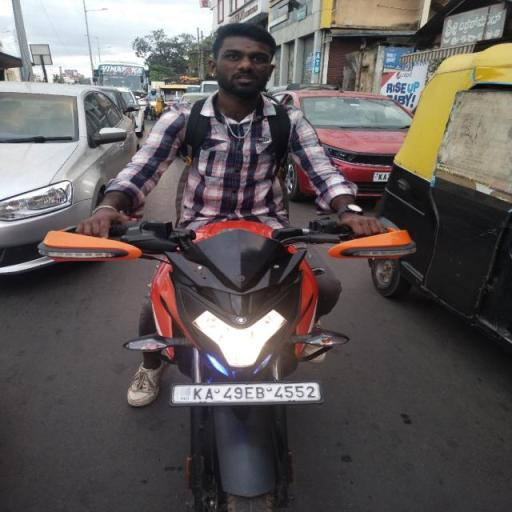bike: (37, 16, 415, 512)
numberplate: (174, 383, 324, 402)
withouthelmet: (213, 23, 270, 96)
